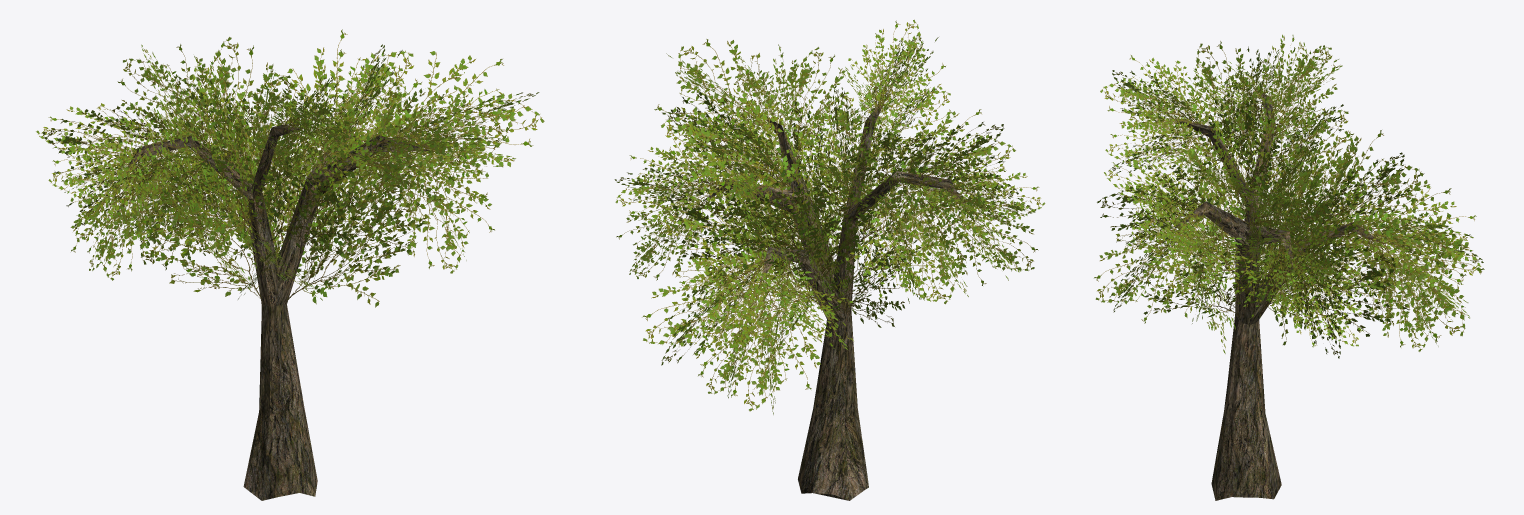
Rendered from massive_swamptree_01_a.obj.
The picture shows the model from 3 angles, left to right: view 1: azimuth 30°, elevation 25°; view 2: azimuth 150°, elevation 25°; view 3: azimuth 270°, elevation 25°; orthographic projection. The views are drawn at different scales.
Visible parts, largest first — view 1: swamptree128; view 2: swamptree128; view 3: swamptree128.
Part boxes in pixels (bbox=[...]): swamptree128: bbox=[36, 29, 544, 500]; swamptree128: bbox=[614, 19, 1045, 500]; swamptree128: bbox=[1094, 34, 1484, 500].
Size of what is drawn, in the model's own units: 24.2 by 22.24 by 19.88.
3 materials, 3 textured.
